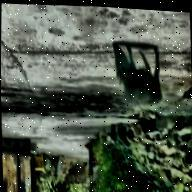boar: (114, 44, 174, 117)
